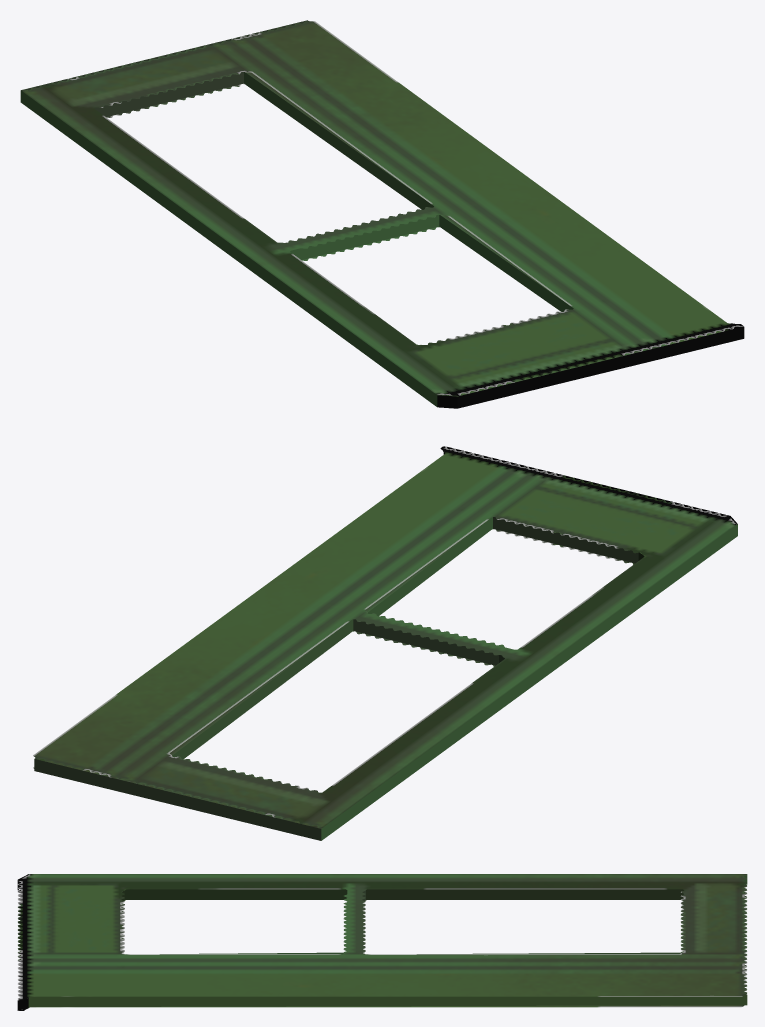
Rendered from pz_native_location_shop_greenes_01_77_frame.obj.
The picture shows the model from 3 angles, top to bottom: view 1: azimuth 30°, elevation 25°; view 2: azimuth 150°, elevation 25°; view 3: azimuth 270°, elevation 25°; orthographic projection. The views are drawn at different scales.
Parts seen in each view (by area): view 1: pz_native_location_shop_greenes_01_77_frame; view 2: pz_native_location_shop_greenes_01_77_frame; view 3: pz_native_location_shop_greenes_01_77_frame.
Part boxes in pixels (x1,y1,x2,y2): pz_native_location_shop_greenes_01_77_frame: [20, 20, 744, 408]; pz_native_location_shop_greenes_01_77_frame: [33, 446, 737, 840]; pz_native_location_shop_greenes_01_77_frame: [17, 874, 747, 1010].
Size of the model in its own units: 1.06 by 0.04 by 2.54.
1 material, 1 textured.
